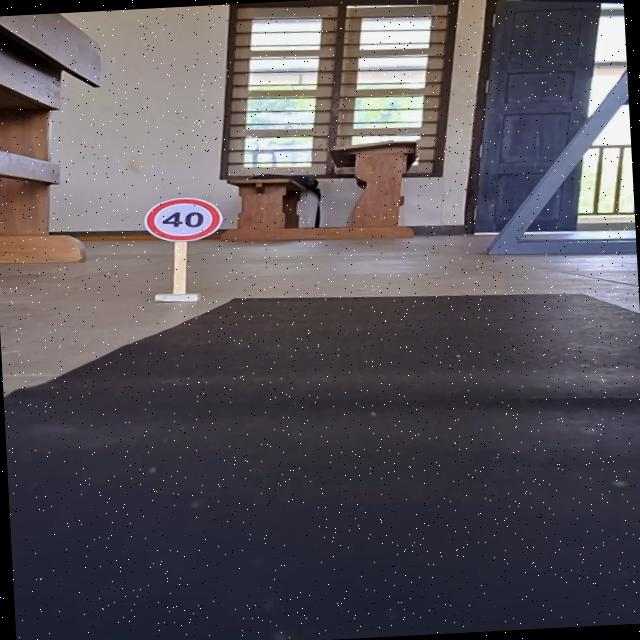Speed40: (142, 194, 226, 245)
